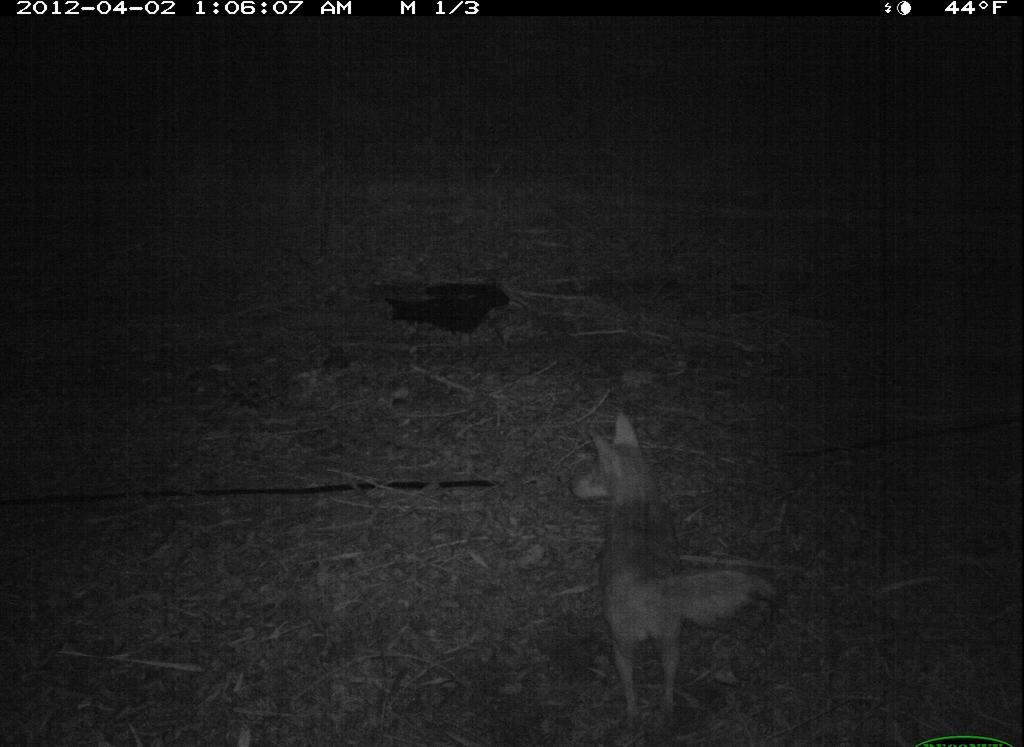coyote: (565, 406, 792, 735)
